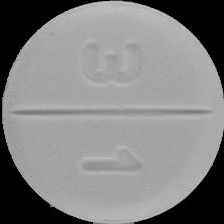65862-030: (0, 0, 224, 224)
